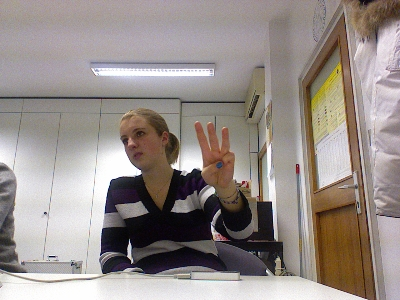三分: (191, 118, 237, 188)
